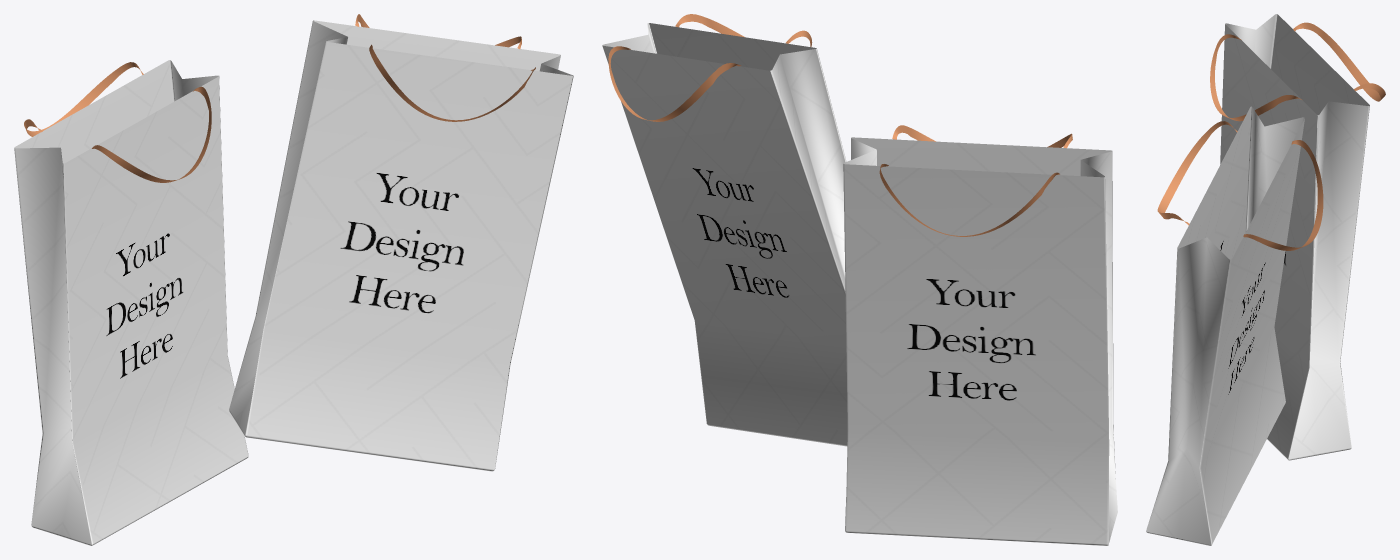
Rendered from Paper Bag A-4.glb.
The picture shows the model from 3 angles, left to right: view 1: azimuth 30°, elevation 25°; view 2: azimuth 150°, elevation 25°; view 3: azimuth 270°, elevation 25°; orthographic projection. The views are drawn at different scales.
Visible parts, largest first — view 1: Object_2.001, Object_2.003, Object_2.004, Object_2.002; view 2: Object_2.003, Object_2.001, Object_2.002, Object_2.004; view 3: Object_2.001, Object_2.003, Object_2.002, Object_2.004.
Part boxes in pixels (x1,y1,x2,y2): Object_2.001: (229,20,573,471); Object_2.003: (14,60,248,545); Object_2.004: (24,62,211,182); Object_2.002: (355,14,535,121); Object_2.003: (843,137,1117,545); Object_2.001: (602,23,847,446); Object_2.002: (608,14,812,121); Object_2.004: (879,125,1072,236); Object_2.001: (1146,106,1304,545); Object_2.003: (1220,14,1369,460); Object_2.002: (1157,121,1323,250); Object_2.004: (1210,22,1385,121).
Size of the model in its own units: 8.2 by 6.31 by 3.59.
Materials: 2 (1 with a texture image).
